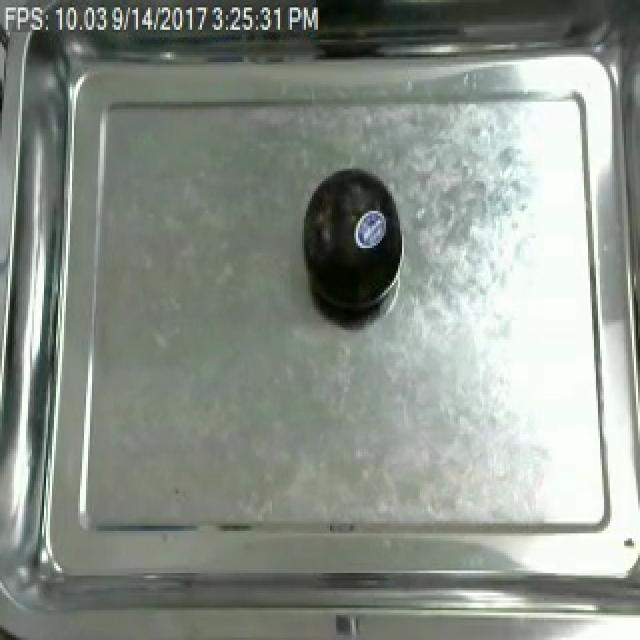Fruit: (296, 162, 406, 322)
